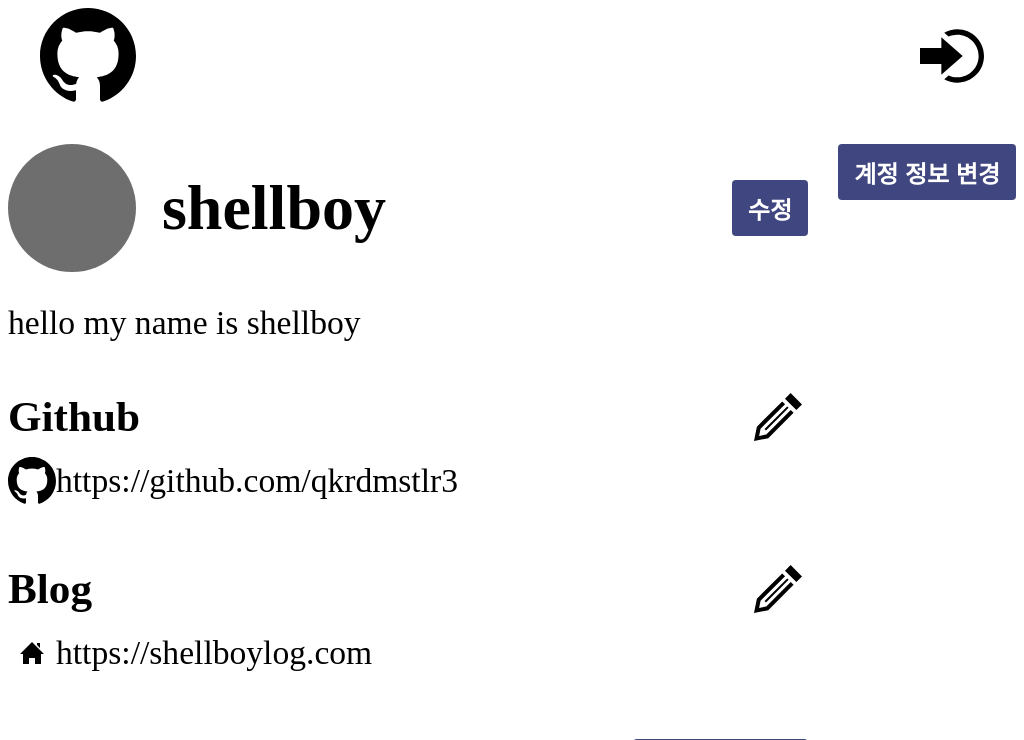
<Profile> 페이지 › github url기능 › 수정 아이콘 클릭 시 전환
This screenshot has width=1024, height=740.
Click the 1st button named "logo-pencil" at [778, 416], box [748, 392, 808, 442]
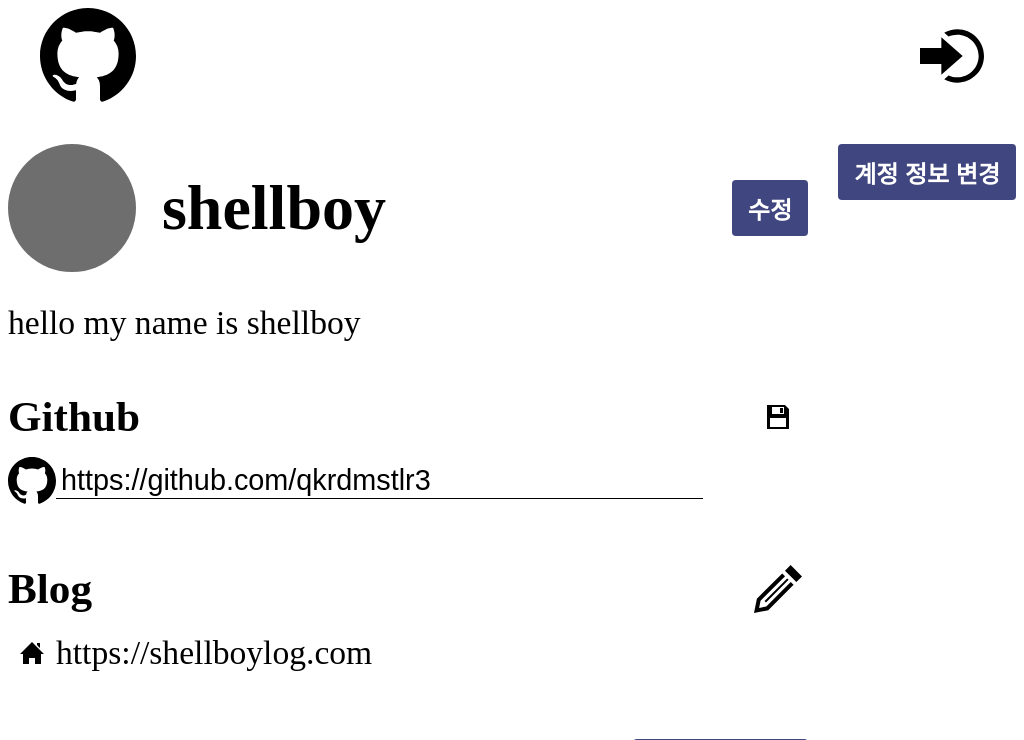
Result: the field named "github-input" holds "https://github.com/qkrdmstlr3" at [56, 463, 703, 499]
